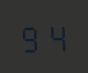four: (44, 19, 68, 52)
nine: (19, 20, 43, 53)
